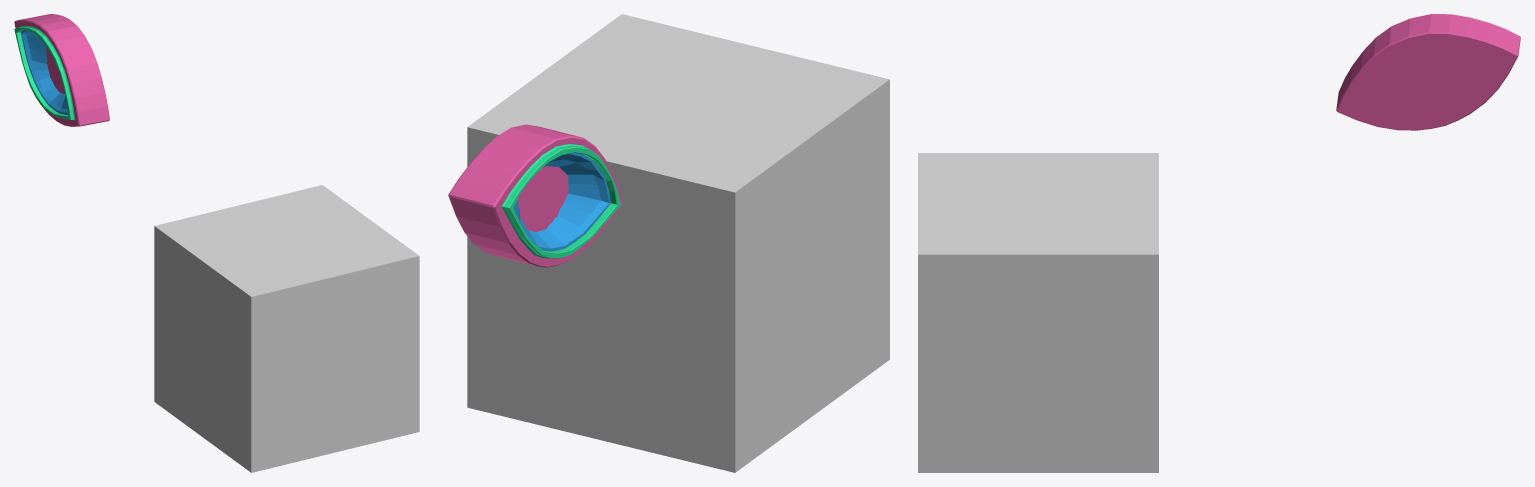
The model's file is N_Leye_Normal.fbx.
3 views of the same model, side by side, from view 1: azimuth 30°, elevation 25°; view 2: azimuth 150°, elevation 25°; view 3: azimuth 270°, elevation 25° (orthographic). The views are drawn at different scales.
Parts seen in each view (by area): view 1: Cube, eye.001; view 2: Cube, eye.001; view 3: Cube, eye.001.
Part boxes in pixels (<box>): Cube: <box>154,185,419,472</box>; eye.001: <box>14,14,109,126</box>; Cube: <box>467,14,889,472</box>; eye.001: <box>448,124,623,267</box>; Cube: <box>918,153,1158,472</box>; eye.001: <box>1336,14,1520,130</box>.
Bounding box in the file's own units: 207 × 329 × 500.
